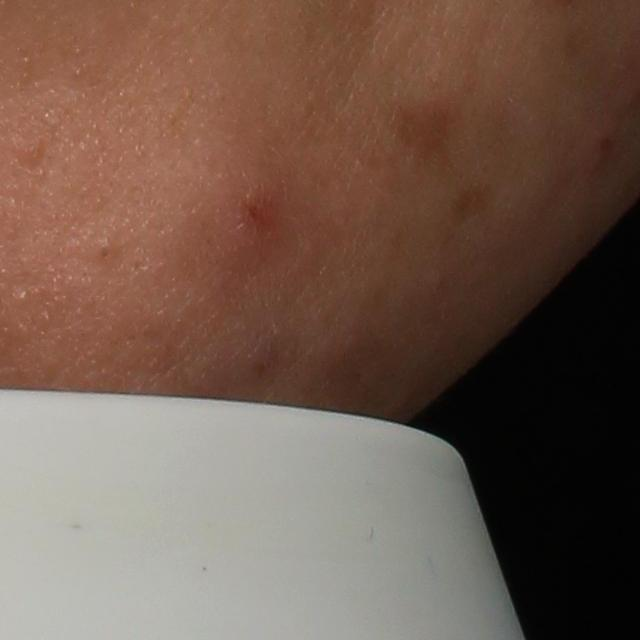comedo: (91, 235, 123, 269)
